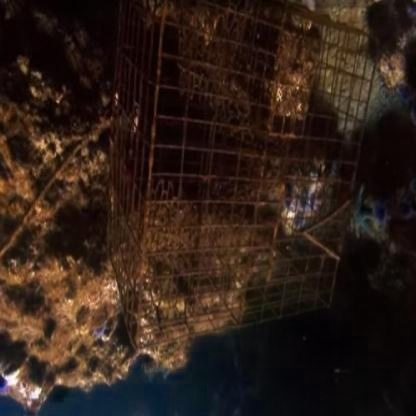misc: (106, 27, 355, 341)
